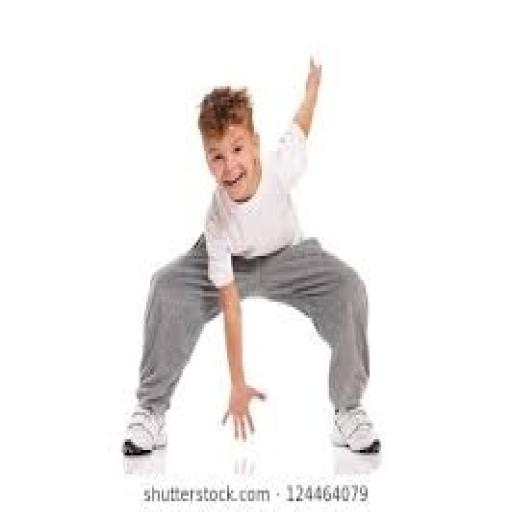dancing: (119, 48, 383, 461)
